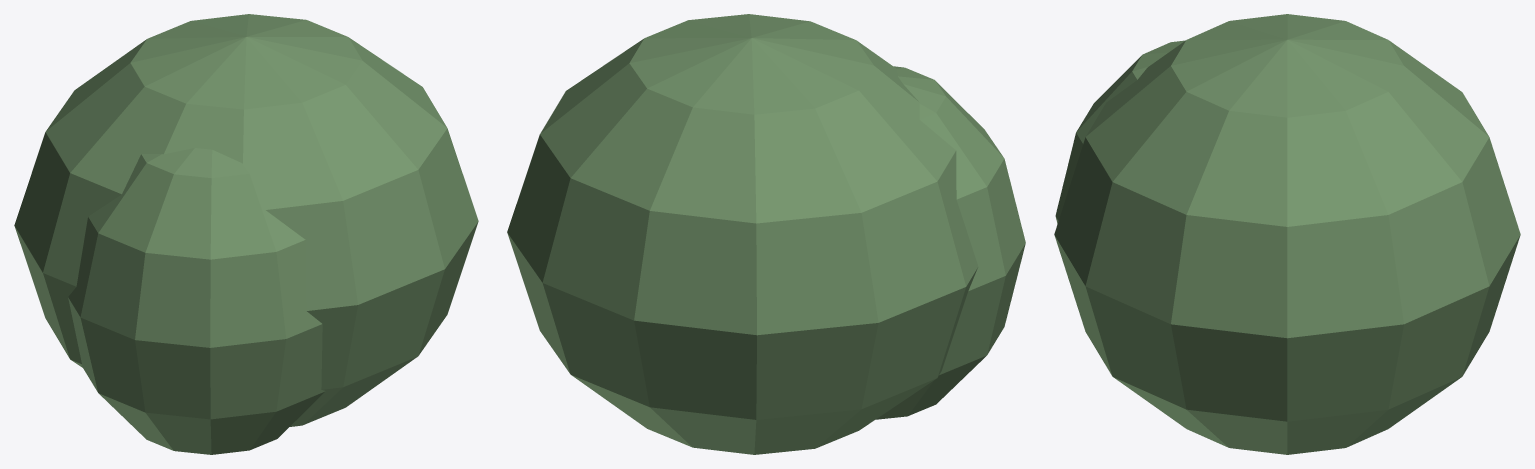
The model's file is young_crown.glb.
3 views of the same model, side by side, from view 1: azimuth 30°, elevation 25°; view 2: azimuth 150°, elevation 25°; view 3: azimuth 270°, elevation 25° (orthographic). The views are drawn at different scales.
Parts seen in each view (by area): view 1: young_crown; view 2: young_crown; view 3: young_crown.
Part boxes in pixels (x1=…): young_crown: x1=14, y1=14, x2=478, y2=454; young_crown: x1=507, y1=14, x2=1025, y2=454; young_crown: x1=1054, y1=14, x2=1520, y2=454.
Size of the model in its own units: 2 by 1.75 by 1.9.
